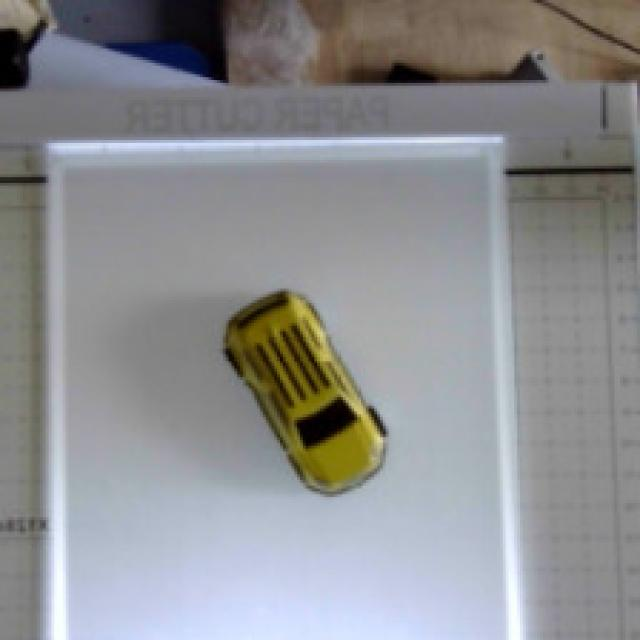Yellow Car: (160, 265, 415, 535)
